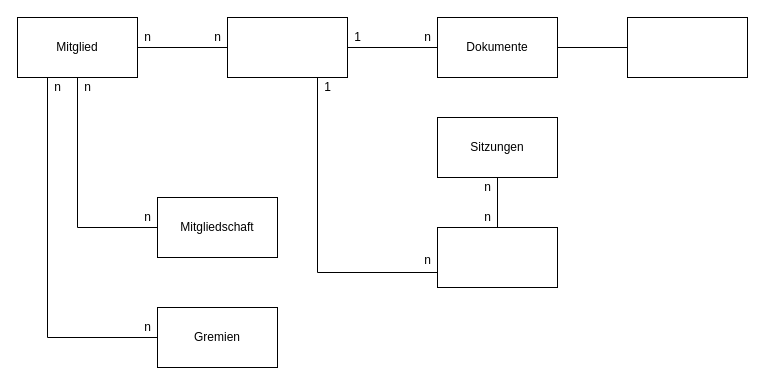
The diagram is 765 pixels wide and 385 high, and some of its shapes have lost their labels. The centre of each missing label's shape, as x and y in pixels:
Geschäft: (x=287, y=47)
PDF: (x=687, y=47)
Traktanden: (x=497, y=257)
